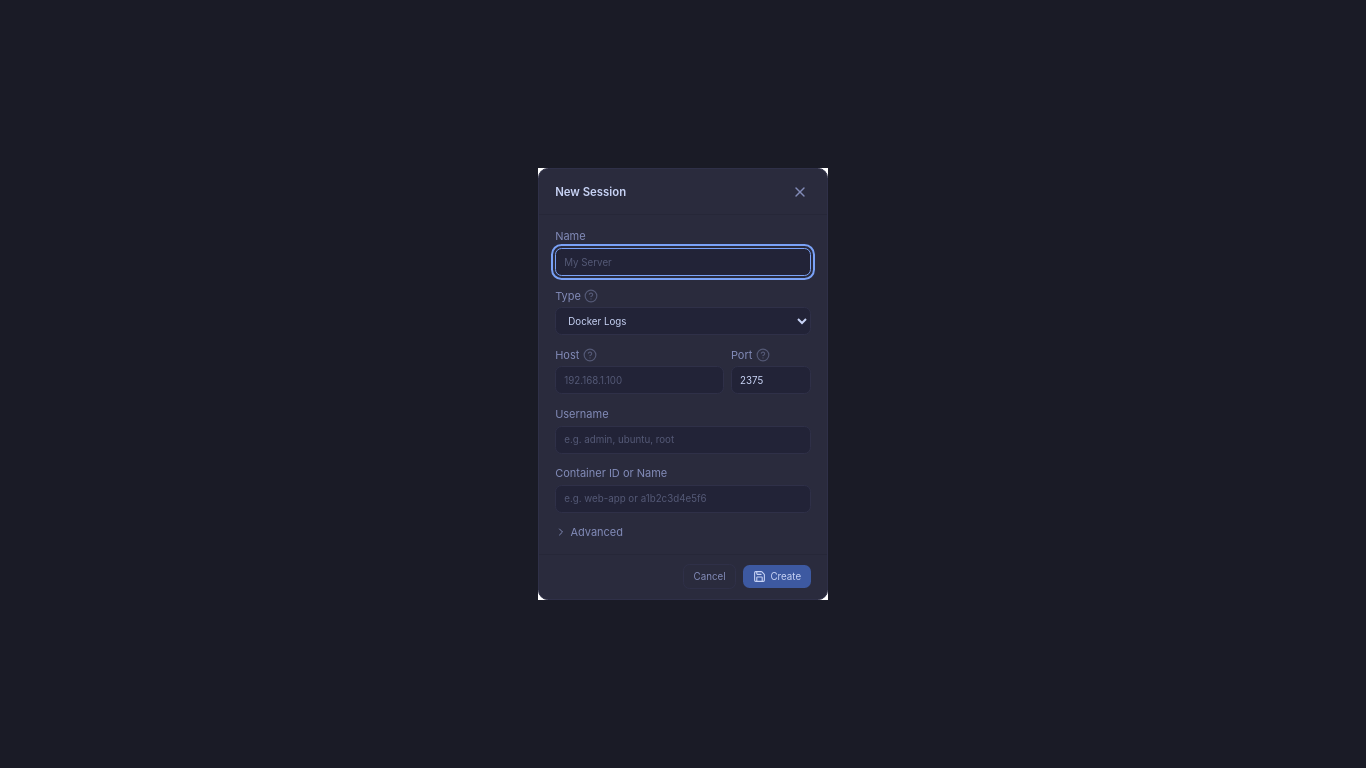
it: SessionEditor › protocol-specific required fields block Save when empty › Docker Logs requires a Container ID or name
Type "Test" into the field with placeholder "My Server" at coordinates (683, 262), box [555, 248, 811, 276]
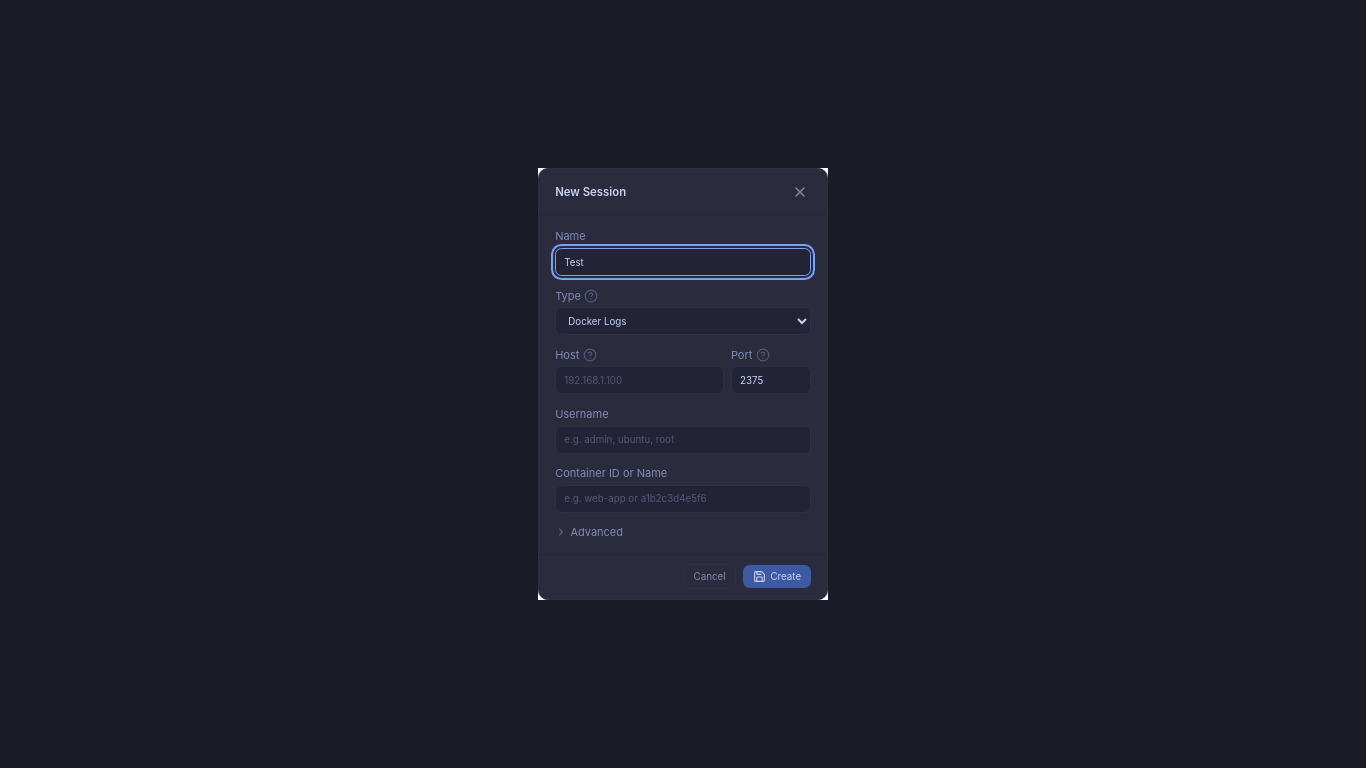
Type "10.0.0.1" into the field with placeholder "192.168.1.100" at coordinates (640, 380), box [555, 366, 724, 394]
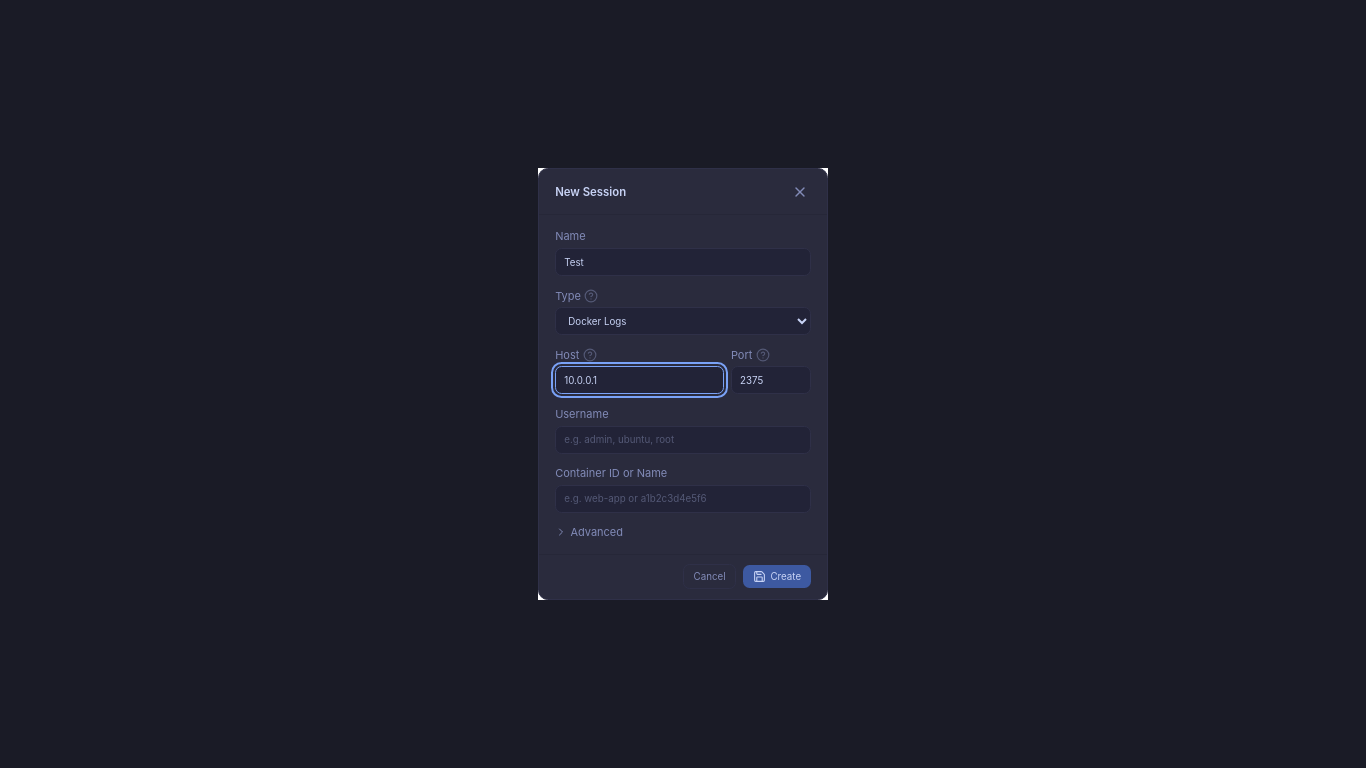
Click the button "Create" at coordinates (777, 577), box [743, 565, 811, 588]
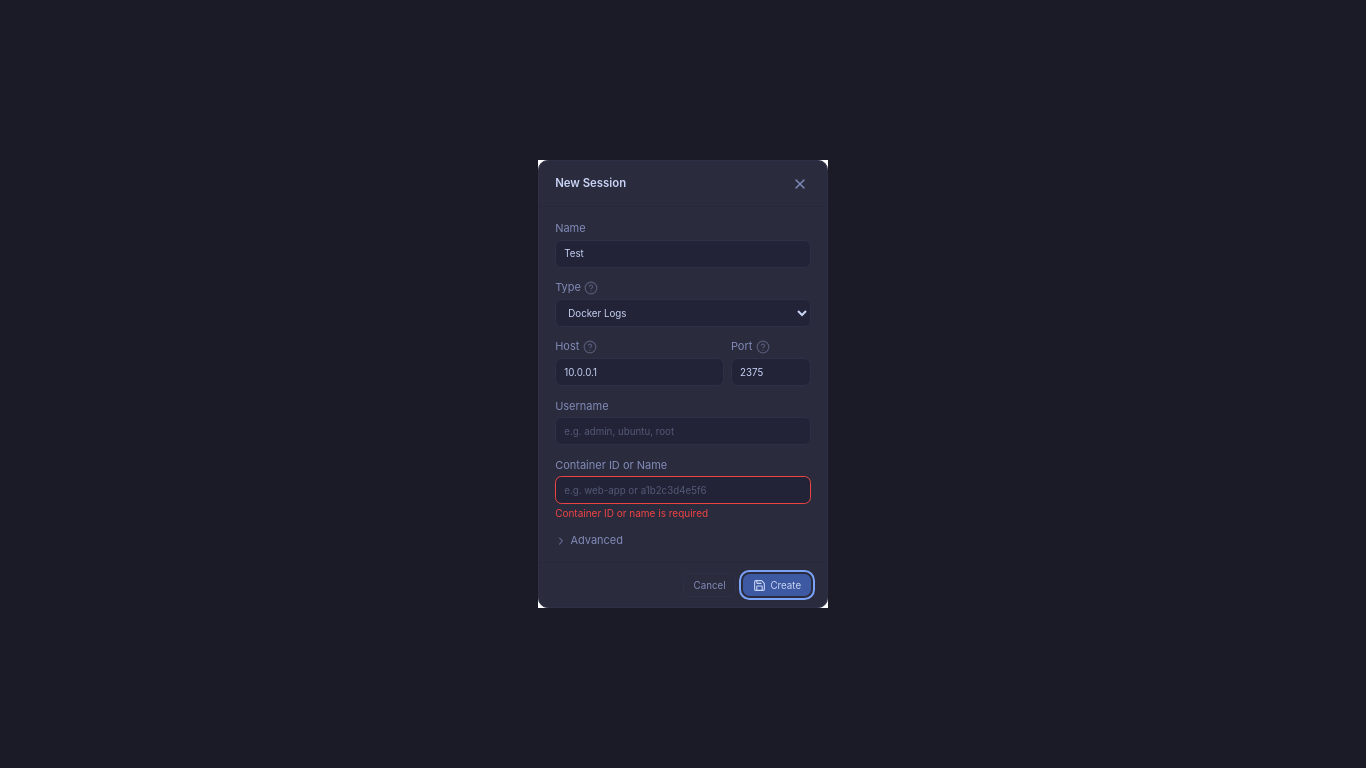
Check: the text "Container ID or name is required" is shown, box [555, 507, 708, 519]
